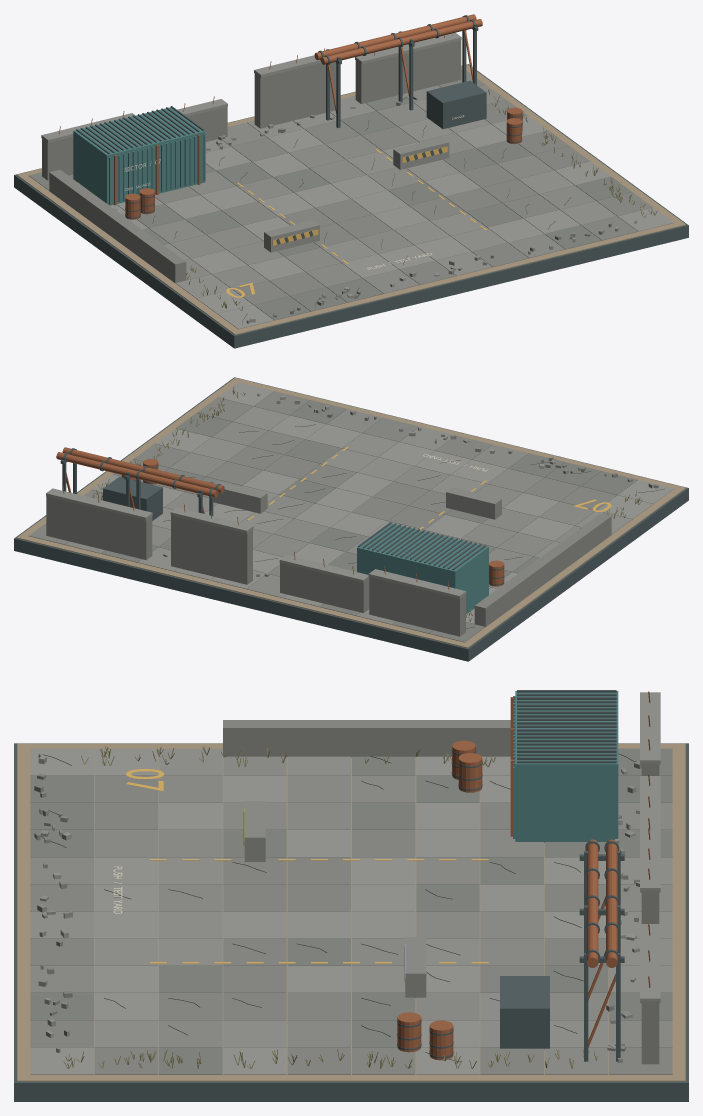
The model's file is environment.glb.
3 renders of one model, top to bottom at view 1: azimuth 30°, elevation 25°; view 2: azimuth 150°, elevation 25°; view 3: azimuth 270°, elevation 25°, orthographic. The views are drawn at different scales.
Visible parts, largest first — view 1: Diorama foundation, Freight container, Sand bed, Low western wall, Broken perimeter.003, Broken perimeter.002, Generator, Rust pipeline, Broken perimeter, Concrete barricade.001, Rust pipeline.001, Concrete barricade (+94 smaller); view 2: Diorama foundation, Sand bed, Freight container, Broken perimeter.003, Broken perimeter.002, Low western wall, Broken perimeter, Broken perimeter.001, Generator, Concrete barricade, Rust pipeline.001, Concrete barricade.001 (+75 smaller); view 3: Sand bed, Diorama foundation, Freight container, Low western wall, Generator, Concrete slab.031, Concrete slab.091, Concrete slab.101, Concrete slab.051, Concrete slab.061, Concrete slab.071, Concrete slab.041 (+120 smaller).
Part boxes in pixels (left/top/right/bottom): Diorama foundation: left=14, top=64, right=688, bottom=348; Freight container: left=73, top=107, right=205, bottom=205; Sand bed: left=17, top=64, right=685, bottom=334; Low western wall: left=49, top=169, right=186, bottom=283; Broken perimeter.003: left=355, top=40, right=461, bottom=103; Broken perimeter.002: left=254, top=62, right=336, bottom=128; Generator: left=426, top=80, right=486, bottom=129; Rust pipeline: left=321, top=19, right=482, bottom=64; Broken perimeter: left=42, top=137, right=73, bottom=180; Concrete barricade.001: left=393, top=137, right=449, bottom=169; Rust pipeline.001: left=314, top=14, right=476, bottom=60; Concrete barricade: left=264, top=220, right=319, bottom=252; Diorama foundation: left=14, top=377, right=688, bottom=661; Sand bed: left=17, top=377, right=685, bottom=648; Freight container: left=357, top=523, right=488, bottom=614; Broken perimeter.003: left=46, top=496, right=152, bottom=560; Broken perimeter.002: left=171, top=515, right=252, bottom=584; Low western wall: left=474, top=513, right=611, bottom=627; Broken perimeter: left=369, top=577, right=465, bottom=636; Broken perimeter.001: left=280, top=563, right=369, bottom=613; Generator: left=103, top=477, right=162, bottom=520; Concrete barricade: left=446, top=487, right=501, bottom=519; Rust pipeline.001: left=56, top=452, right=218, bottom=497; Concrete barricade.001: left=213, top=481, right=267, bottom=513; Sand bed: left=17, top=743, right=685, bottom=1081; Diorama foundation: left=14, top=743, right=688, bottom=1101; Freight container: left=515, top=691, right=618, bottom=842; Low western wall: left=223, top=720, right=510, bottom=757; Generator: left=500, top=976, right=549, bottom=1049; Concrete slab.031: left=94, top=830, right=158, bottom=857; Concrete slab.091: left=94, top=993, right=158, bottom=1020; Concrete slab.101: left=94, top=1020, right=158, bottom=1047; Concrete slab.051: left=94, top=884, right=158, bottom=911; Concrete slab.061: left=94, top=911, right=158, bottom=938; Concrete slab.071: left=94, top=938, right=158, bottom=965; Concrete slab.041: left=94, top=857, right=158, bottom=884.
Bounding box in the file's own units: 25 × 4.51 × 21.
